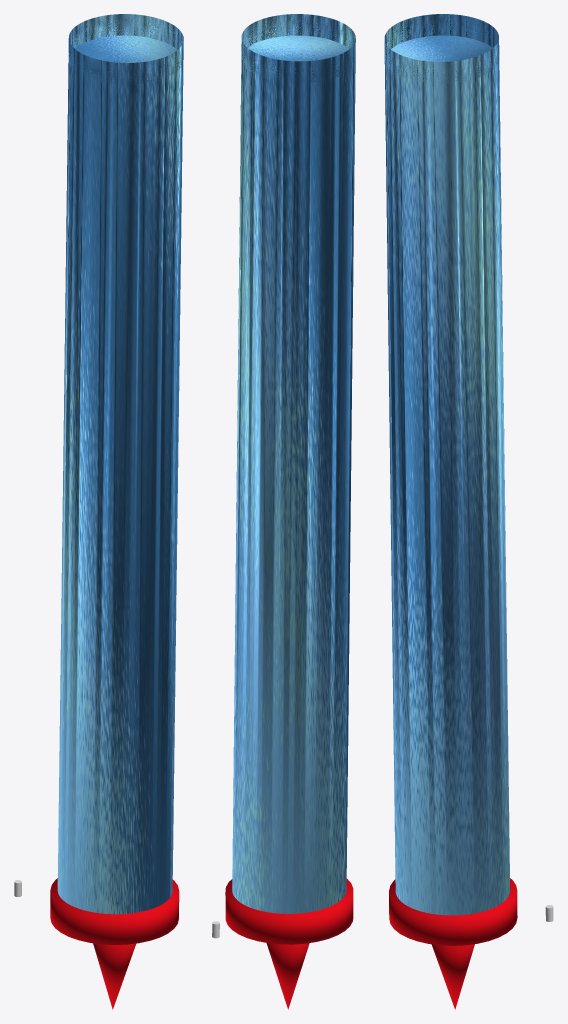
File: sparkler3.glb
3 renders of one model, left to right at view 1: azimuth 90°, elevation 25°; view 2: azimuth 150°, elevation 25°; view 3: azimuth 270°, elevation 25°, orthographic.
Parts seen in each view (by area): view 1: Candle_Body, Candle_Collar, Candle_Tip; view 2: Candle_Body, Candle_Collar, Candle_Tip; view 3: Candle_Body, Candle_Collar, Candle_Tip.
Boxes of the visible parts, bbox=[...] form: Candle_Body: bbox=[57, 14, 183, 914]; Candle_Collar: bbox=[50, 878, 179, 944]; Candle_Tip: bbox=[93, 943, 135, 1009]; Candle_Body: bbox=[232, 14, 355, 913]; Candle_Collar: bbox=[225, 878, 353, 944]; Candle_Tip: bbox=[266, 943, 309, 1009]; Candle_Body: bbox=[384, 14, 510, 915]; Candle_Collar: bbox=[389, 878, 517, 945]; Candle_Tip: bbox=[431, 944, 474, 1009].
Bounding box in the file's own units: 0.1068 × 0.8899 × 0.1404.
Materials: 3 (1 with a texture image).
